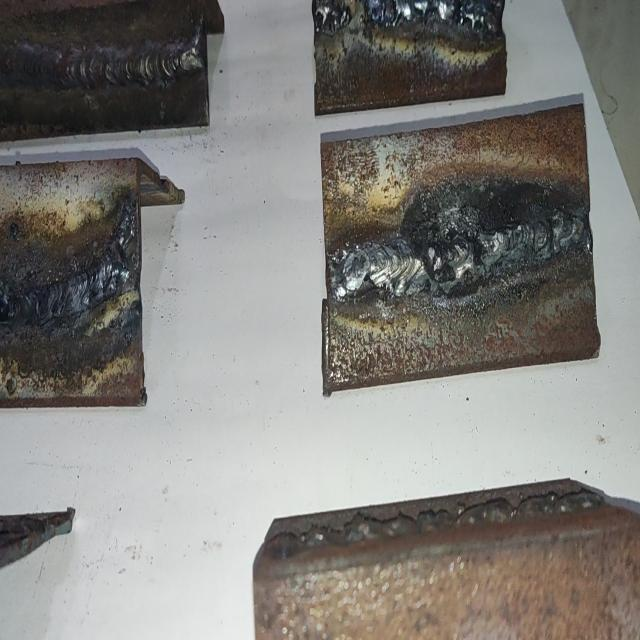Defect: (428, 184, 487, 314), (110, 192, 139, 292)
Welding Line: (334, 202, 587, 298), (0, 244, 134, 340), (0, 36, 205, 88), (314, 1, 504, 34)
Workpiece: (318, 102, 592, 396), (0, 155, 149, 408), (0, 0, 210, 134), (310, 0, 507, 116)
